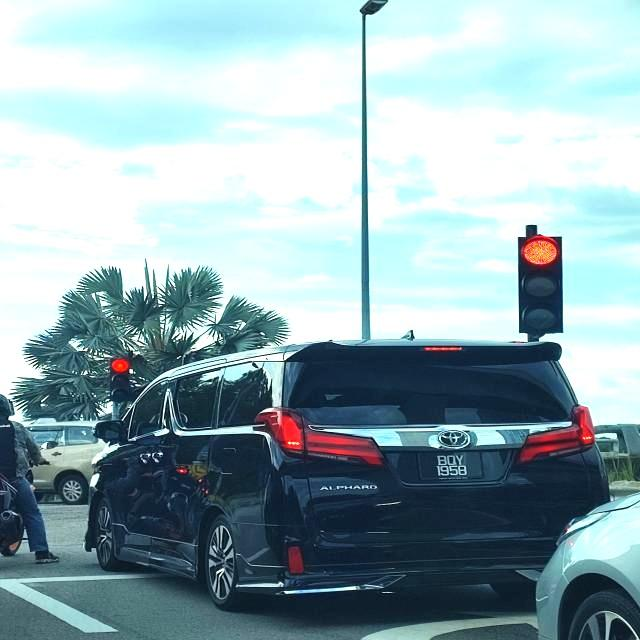Red: (518, 235, 566, 336), (108, 358, 130, 404)
